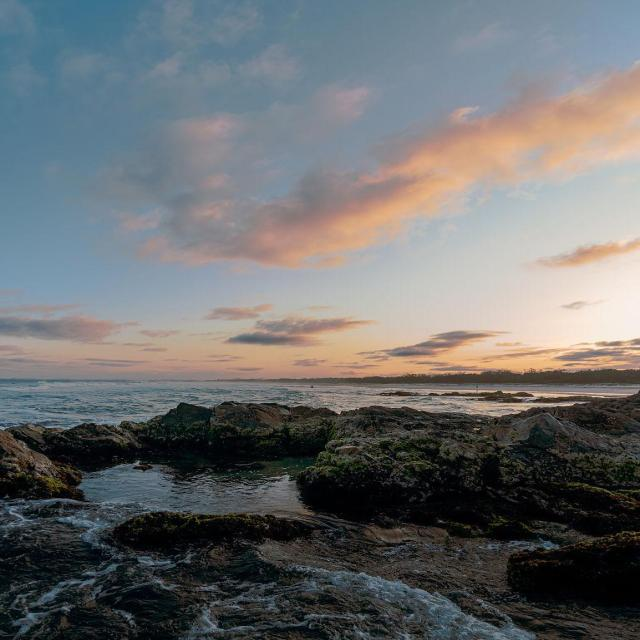reef: (110, 408, 602, 529)
